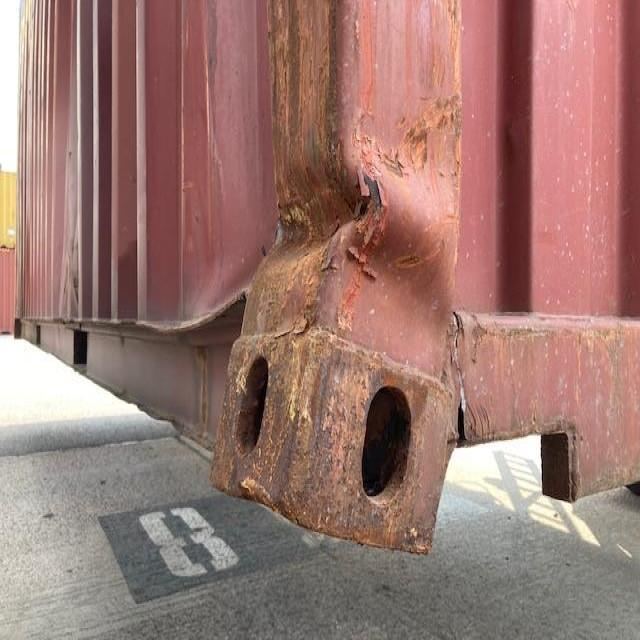dent: (249, 106, 467, 345)
